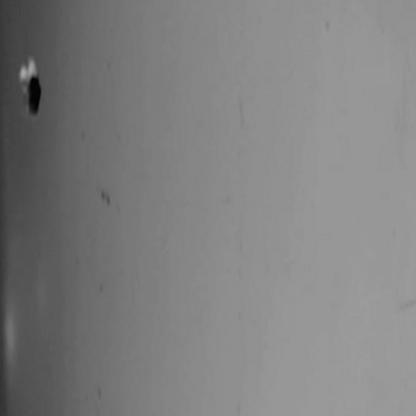kongdong: (11, 49, 44, 120)
